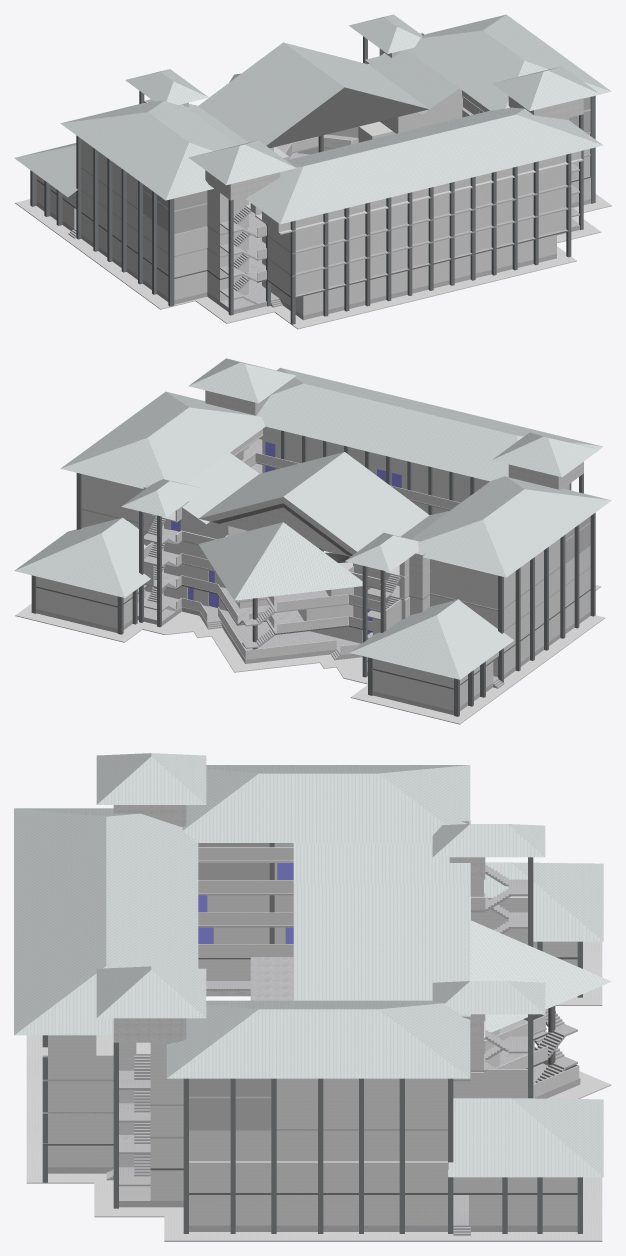
File: Annex 1.glb
3 views of the same model, one above another, from view 1: azimuth 30°, elevation 25°; view 2: azimuth 150°, elevation 25°; view 3: azimuth 270°, elevation 25° (orthographic). The views are drawn at different scales.
Visible parts, largest first — view 1: Roof wing#1, Roof wing (×2), object 154, Column#2 (×15), Roof tanki air (×2), object 3, Column#1 (×8), Roof tanki air#1, object 11, object 64, object 190, object 106 (+33 smaller); view 2: Roof wing (×2), object 154, Roof wing#1, object 70, object 3, Roof tanki air (×2), object 69, object 11, Column#1 (×7), Roof tanki air#1, object 49, object 190 (+28 smaller); view 3: Roof wing (×2), Roof wing#1, object 154, Roof tanki air (×2), object 3, object 69, Roof tanki air#1, object 191, object 70, Column#1 (×7), object 4, object 11 (+39 smaller).
Part boxes in pixels (x1=…): Roof wing#1: x1=246, y1=107, x2=603, y2=224; Roof wing (×2): x1=60, y1=14, x2=611, y2=200; object 154: x1=198, y1=42, x2=428, y2=148; Column#2 (×15): x1=228, y1=114, x2=583, y2=324; Roof tanki air (×2): x1=188, y1=66, x2=599, y2=200; object 3: x1=15, y1=194, x2=611, y2=329; Column#1 (×8): x1=76, y1=95, x2=595, y2=306; Roof tanki air#1: x1=125, y1=14, x2=422, y2=104; object 11: x1=36, y1=199, x2=590, y2=320; object 64: x1=262, y1=244, x2=428, y2=295; object 190: x1=368, y1=49, x2=461, y2=115; object 106: x1=267, y1=199, x2=428, y2=251; Roof wing (×2): x1=60, y1=391, x2=611, y2=577; object 154: x1=198, y1=452, x2=429, y2=600; Roof wing#1: x1=256, y1=367, x2=602, y2=481; object 70: x1=349, y1=599, x2=513, y2=679; object 3: x1=15, y1=549, x2=604, y2=724; Roof tanki air (×2): x1=188, y1=358, x2=599, y2=489; object 69: x1=14, y1=517, x2=150, y2=597; object 11: x1=36, y1=553, x2=590, y2=715; Column#1 (×7): x1=498, y1=512, x2=595, y2=682; Roof tanki air#1: x1=121, y1=479, x2=419, y2=572; object 49: x1=145, y1=564, x2=515, y2=688; object 190: x1=182, y1=453, x2=259, y2=524; Roof wing (×2): x1=166, y1=765, x2=470, y2=1078; Roof wing#1: x1=14, y1=808, x2=198, y2=1035; object 154: x1=293, y1=883, x2=611, y2=1032; Roof tanki air (×2): x1=96, y1=753, x2=206, y2=1042; object 3: x1=26, y1=941, x2=611, y2=1241; object 69: x1=448, y1=1098, x2=603, y2=1177; Roof tanki air#1: x1=432, y1=824, x2=545, y2=1014; object 191: x1=293, y1=843, x2=470, y2=883; object 70: x1=484, y1=862, x2=603, y2=941; Column#1 (×7): x1=183, y1=1078, x2=453, y2=1233; object 4: x1=189, y1=1195, x2=399, y2=1225; object 11: x1=48, y1=981, x2=580, y2=1231.
Bounding box in the file's own units: 63.61 × 21.2 × 51.25.
7 materials, 4 textured.
